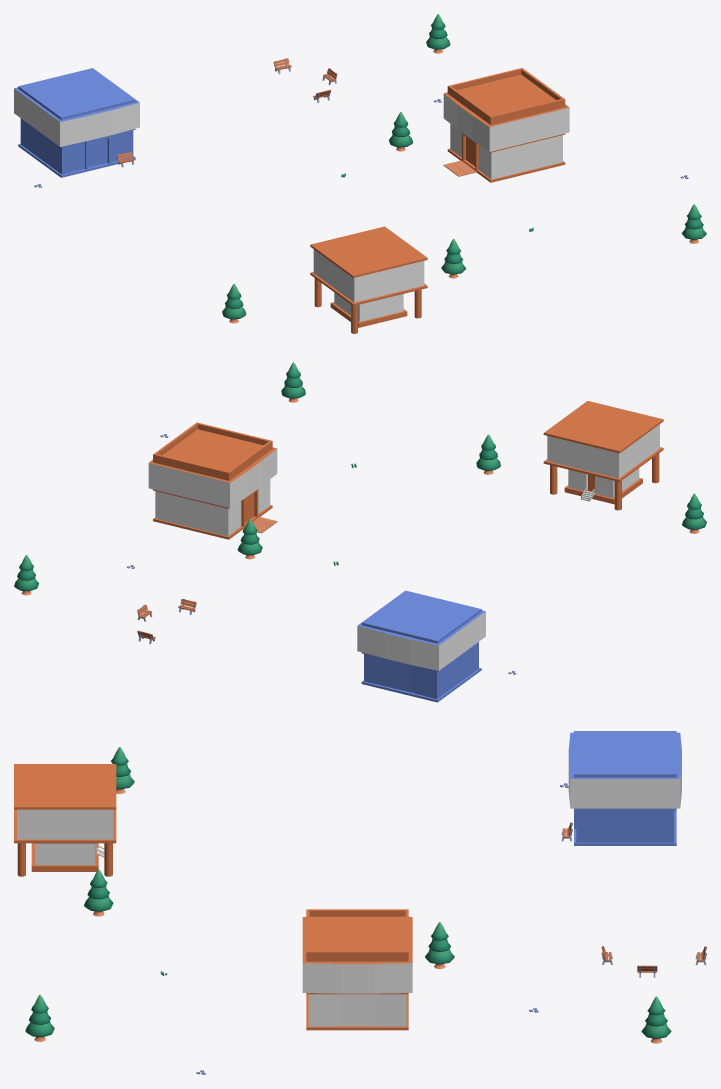
Rendered from port_world.glb.
3 views of the same model, one above another, from view 1: azimuth 30°, elevation 25°; view 2: azimuth 150°, elevation 25°; view 3: azimuth 270°, elevation 25° (orthographic). The views are drawn at different scales.
Parts seen in each view (by area): view 1: Plane.005, tree.005, tree.002, tree.001, tree.003, tree.004; view 2: Plane.005, tree.002, tree.004, tree.005, tree.001, tree.003; view 3: Plane.005, tree.003, tree.004, tree.001, tree.005, tree.002.
Boxes of the visible parts, x1,y1,x2,y2 form: Plane.005: (14,68,569,333); tree.005: (426,14,450,53); tree.002: (222,284,246,323); tree.001: (389,112,413,151); tree.003: (681,204,706,243); tree.004: (441,239,466,278); Plane.005: (148,401,663,702); tree.002: (682,493,706,533); tree.004: (476,434,500,474); tree.005: (14,555,38,595); tree.001: (237,519,262,559); tree.003: (281,362,305,402); Plane.005: (14,731,681,1030); tree.003: (25,994,54,1041); tree.004: (84,869,113,916); tree.001: (425,922,454,969); tree.005: (641,996,671,1043); tree.002: (111,747,134,793).
Bounding box in the file's own units: 55.66 × 6.97 × 56.03.
8 materials, 5 textured.
